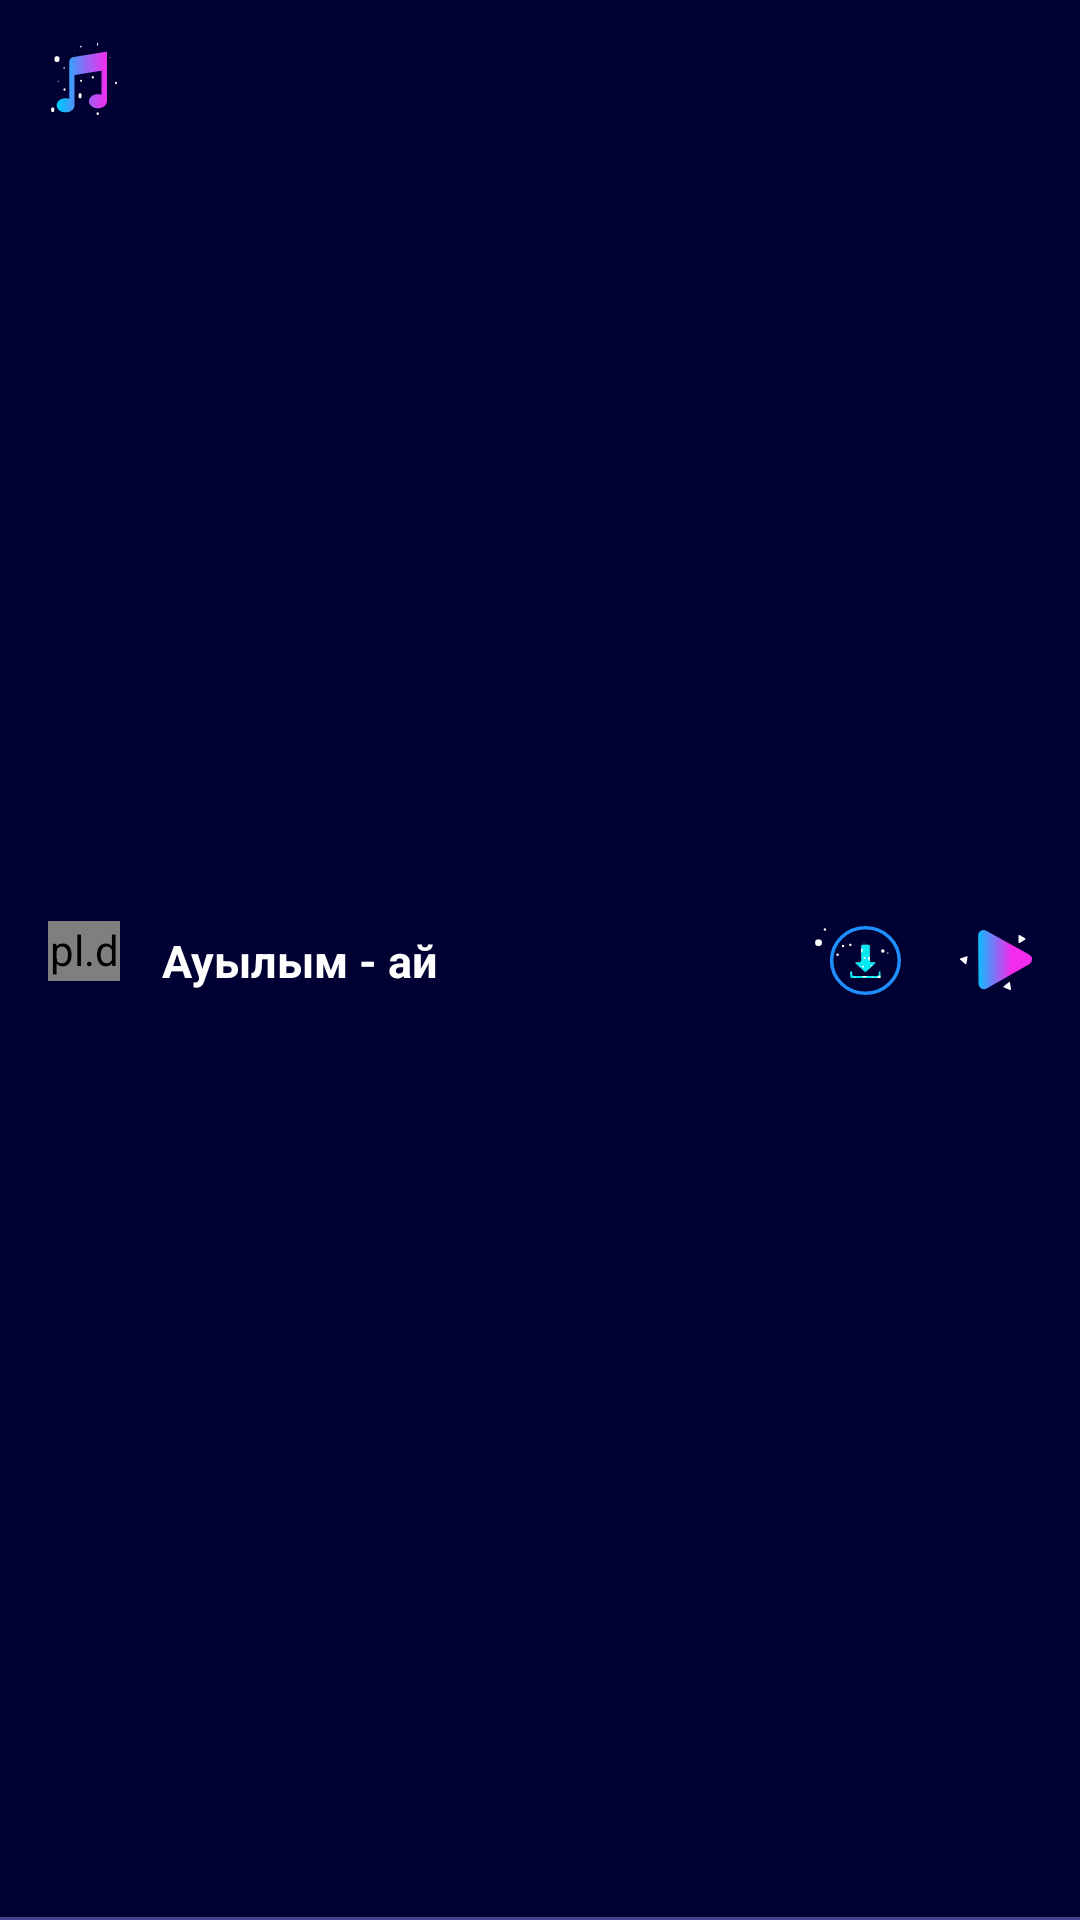

Icons on this 1080×1920 Android screen, each with its box as (x1, y1, x2, y2):
download: (815, 926, 901, 995)
play self: (960, 930, 1032, 990)
sign note: (51, 43, 117, 115)
